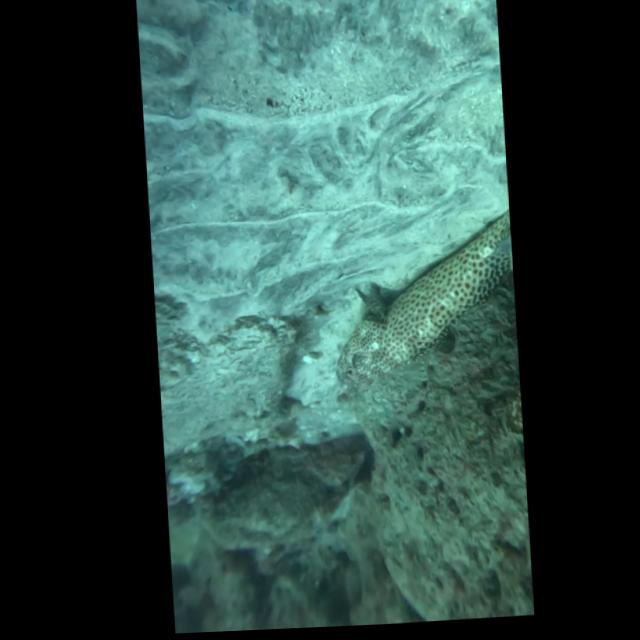Groupers: (324, 177, 518, 386)
